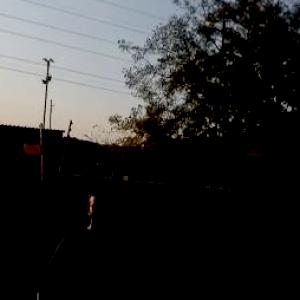follow: (31, 176, 152, 299)
